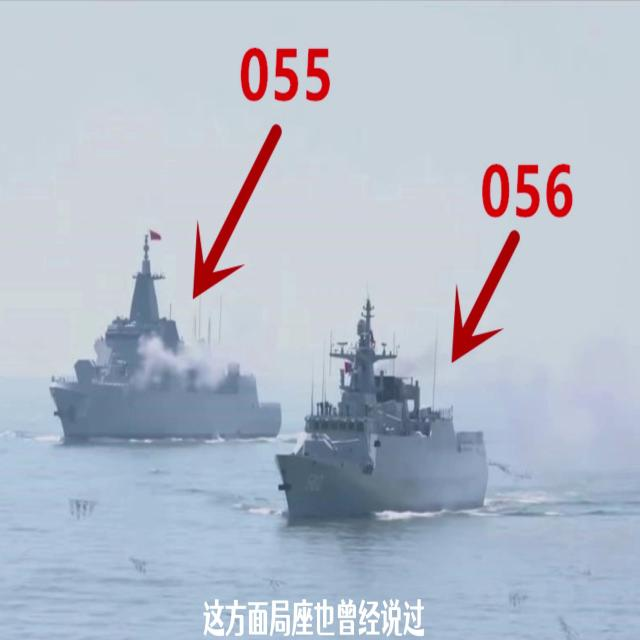navalvessels: (44, 222, 280, 434), (276, 296, 488, 514)
